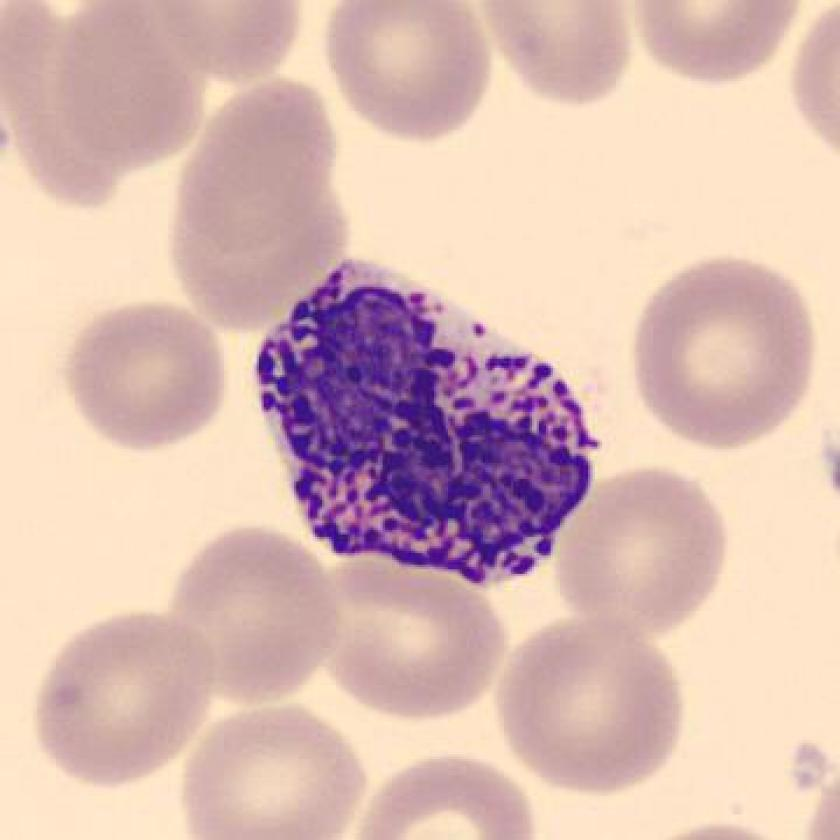basophil: (241, 244, 594, 584)
